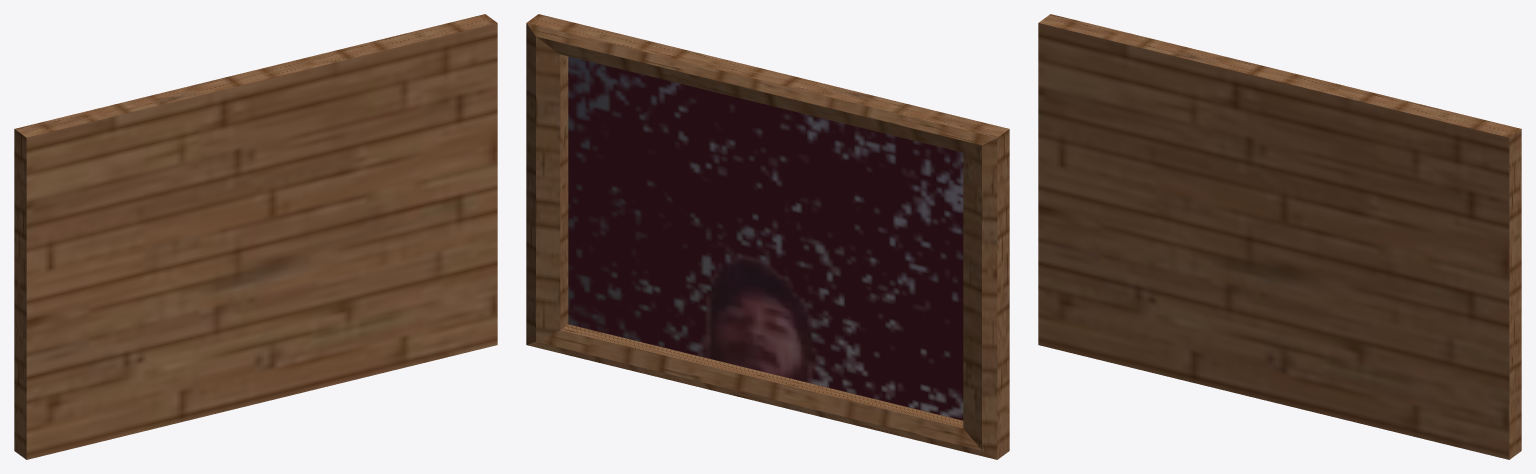
File: eashPainting.fbx
3 renders of one model, left to right at view 1: azimuth 30°, elevation 25°; view 2: azimuth 150°, elevation 25°; view 3: azimuth 330°, elevation 25°, orthographic.
Visible parts, largest first — view 1: Cube.001; view 2: Cube.001; view 3: Cube.001.
Part boxes in pixels (x1,y1,x2,y2): Cube.001: (14, 14, 497, 459); Cube.001: (526, 14, 1009, 459); Cube.001: (1038, 14, 1521, 459).
Bounding box in the file's own units: 306 × 200 × 17.
